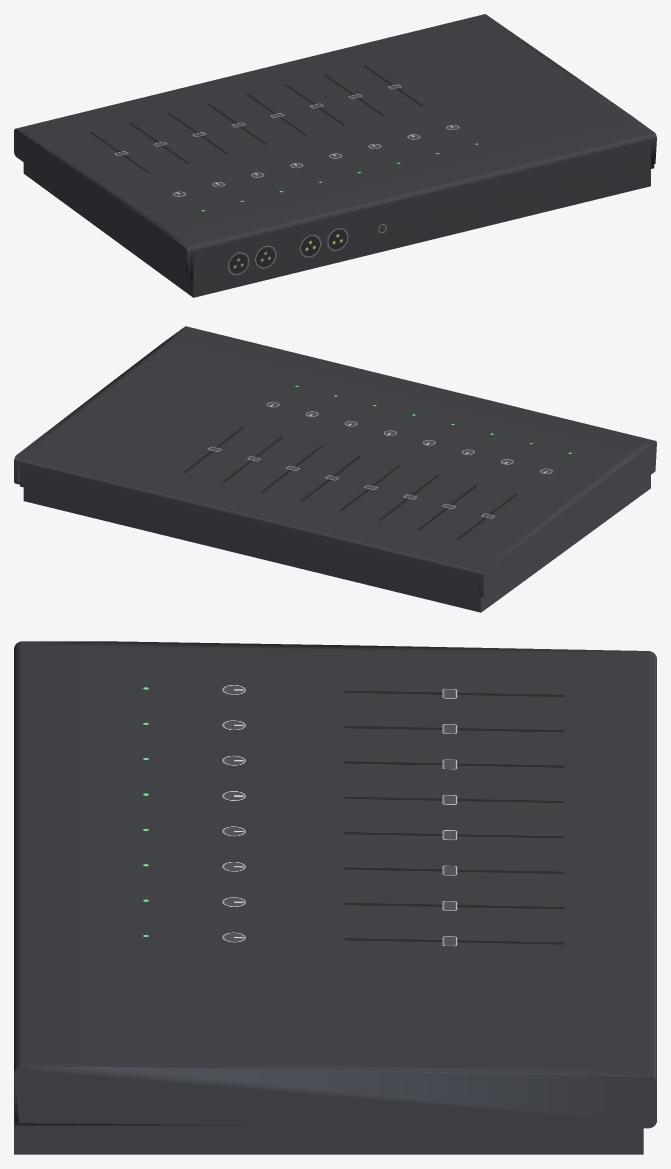
Rendered from arrakis-arc-8.glb.
3 renders of one model, top to bottom at view 1: azimuth 30°, elevation 25°; view 2: azimuth 150°, elevation 25°; view 3: azimuth 270°, elevation 25°, orthographic. The views are drawn at different scales.
Parts seen in each view (by area): view 1: arrakis-arc-8-body; view 2: arrakis-arc-8-body; view 3: arrakis-arc-8-body.
Part boxes in pixels (bbox=[...]): arrakis-arc-8-body: bbox=[14, 14, 656, 297]; arrakis-arc-8-body: bbox=[14, 326, 656, 612]; arrakis-arc-8-body: bbox=[14, 641, 656, 1154].
Size of the model in its own units: 0.457 by 0.051 by 0.292.
1 material, 1 textured.
